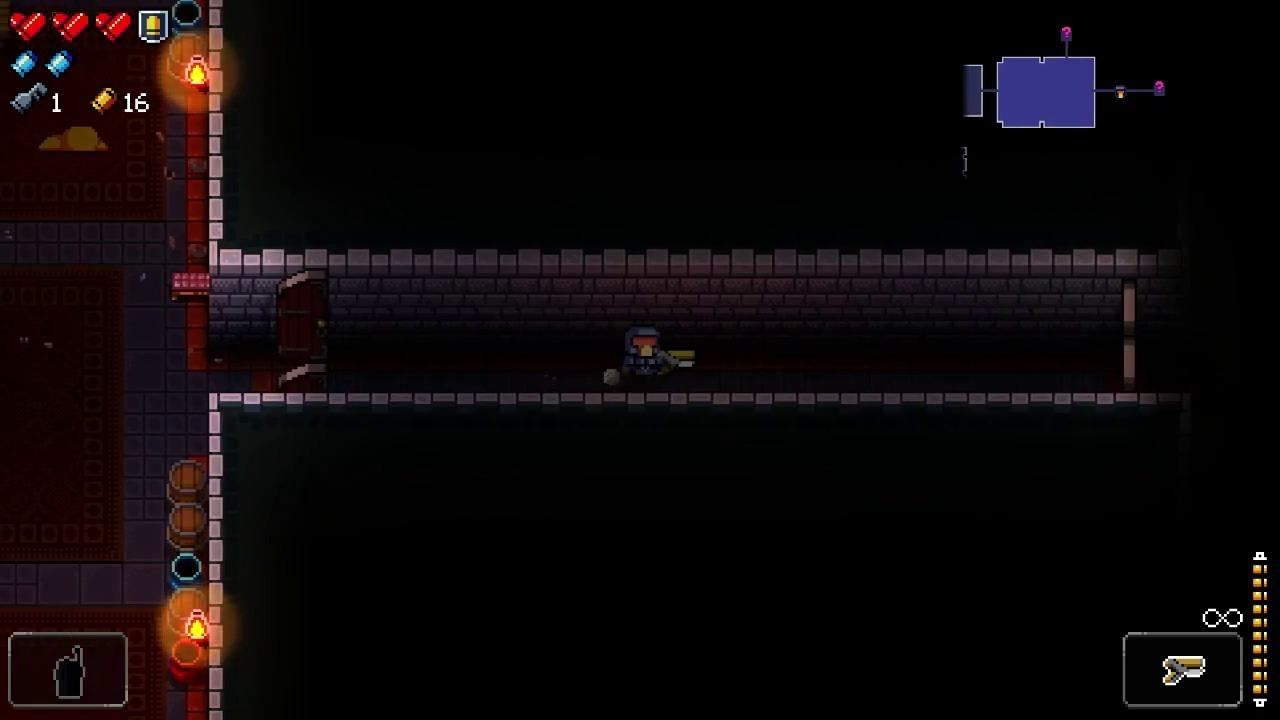dead_apprentice_gunjurer: (40, 127, 108, 150)
player: (626, 326, 662, 378)
unlocked_door: (279, 267, 329, 391), (1124, 281, 1136, 394)
